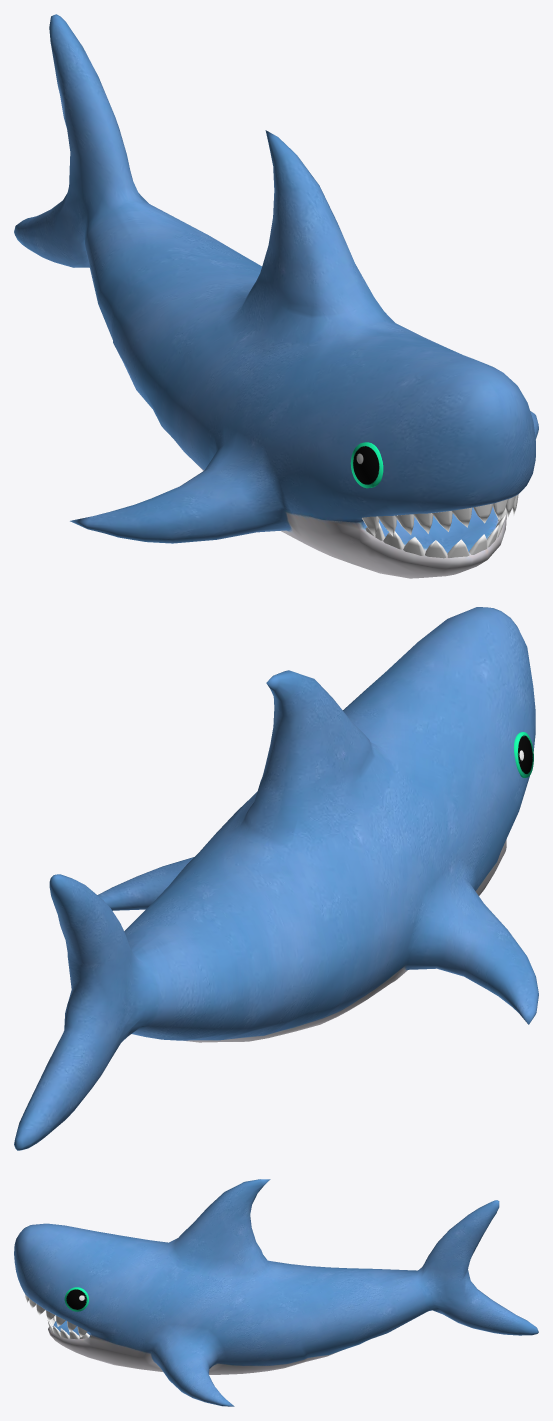
Rendered from plushie_shark.glb.
3 views of the same model, one above another, from view 1: azimuth 30°, elevation 25°; view 2: azimuth 150°, elevation 25°; view 3: azimuth 270°, elevation 25° (orthographic). The views are drawn at different scales.
Parts seen in each view (by area): view 1: Sharkplush; view 2: Sharkplush; view 3: Sharkplush.
Part boxes in pixels (x1=…): Sharkplush: x1=14, y1=14, x2=538, y2=578; Sharkplush: x1=14, y1=607, x2=538, y2=1150; Sharkplush: x1=14, y1=1179, x2=538, y2=1406.
Bounding box in the file's own units: 0.9937 × 0.7301 × 1.83.
1 material, 1 textured.
